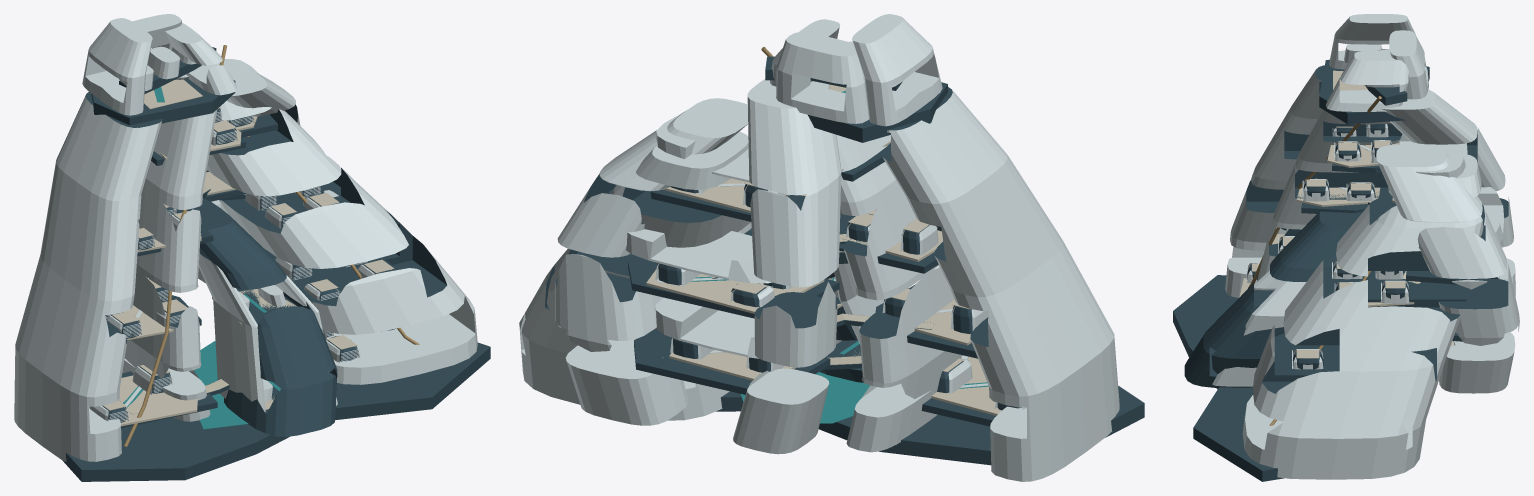
The model's file is R17_REVISION_2.glb.
3 views of the same model, side by side, from view 1: azimuth 30°, elevation 25°; view 2: azimuth 150°, elevation 25°; view 3: azimuth 270°, elevation 25° (orthographic). The views are drawn at different scales.
Visible parts, largest first — view 1: R1_WEST_OCEAN_RIDGE, R2_EAST_INLAND_CIVILIZATION, R1_WEST_INNER_RIDGE, R2_INNER_METROPOLITAN_PENINSULA, C_LOWEST_URBAN_DELTA, R2_PENINSULA_INHABITED_CHEEK, R2_ZENITH_WEST_LIVED_CITY, R2_ZENITH_EAST_LIVED_CITY, R1_REAR_EAST_RIDGE, R2_ZENITH_METROPOLITAN_GROUND, C_W0_ESTUARY_public_ground, C_SHARED_INNER_SEA (+6 smaller); view 2: R1_WEST_OCEAN_RIDGE, R1_REAR_WEST_RIDGE, R1_REAR_EAST_RIDGE, R1_WEST_INNER_RIDGE, R2_EAST_INLAND_CIVILIZATION, R2_ZENITH_WEST_LIVED_CITY, R2_ZENITH_REAR_CIVILIZATION, C_LOWEST_URBAN_DELTA, R1_REAR_CIVIC_OVERWORLD.001, R1_REAR_CIVIC_OVERWORLD, R1_REAR_LOWER_thick_inhabited_ground, R2_ZENITH_METROPOLITAN_GROUND (+15 smaller); view 3: R2_EAST_INLAND_CIVILIZATION, R1_REAR_EAST_RIDGE, R2_INNER_METROPOLITAN_PENINSULA, R1_WEST_OCEAN_RIDGE, C_LOWEST_URBAN_DELTA, R1_WEST_INNER_RIDGE, R1_REAR_WEST_RIDGE, R2_ZENITH_EAST_LIVED_CITY, R2_ZENITH_WEST_LIVED_CITY, R2_PENINSULA_INHABITED_CHEEK.001, R2_ZENITH_REAR_CIVILIZATION, R2_ZENITH_METROPOLITAN_GROUND (+8 smaller).
Part boxes in pixels (box(x1,y1,x2,y2)): R1_WEST_OCEAN_RIDGE: box(14, 92, 162, 461); R2_EAST_INLAND_CIVILIZATION: box(207, 100, 477, 384); R1_WEST_INNER_RIDGE: box(122, 109, 217, 421); R2_INNER_METROPOLITAN_PENINSULA: box(181, 198, 337, 436); C_LOWEST_URBAN_DELTA: box(62, 342, 490, 481); R2_PENINSULA_INHABITED_CHEEK: box(198, 253, 265, 411); R2_ZENITH_WEST_LIVED_CITY: box(82, 18, 152, 115); R2_ZENITH_EAST_LIVED_CITY: box(165, 23, 237, 95); R1_REAR_EAST_RIDGE: box(198, 62, 300, 283); R2_ZENITH_METROPOLITAN_GROUND: box(91, 79, 235, 125); C_W0_ESTUARY_public_ground: box(119, 375, 197, 426); C_SHARED_INNER_SEA: box(194, 341, 248, 429); R1_WEST_OCEAN_RIDGE: box(882, 87, 1119, 481); R1_REAR_WEST_RIDGE: box(733, 79, 841, 454); R1_REAR_EAST_RIDGE: box(555, 98, 748, 425); R1_WEST_INNER_RIDGE: box(836, 135, 968, 452); R2_EAST_INLAND_CIVILIZATION: box(519, 131, 751, 420); R2_ZENITH_WEST_LIVED_CITY: box(852, 14, 942, 126); R2_ZENITH_REAR_CIVILIZATION: box(776, 32, 869, 123); C_LOWEST_URBAN_DELTA: box(716, 386, 1144, 465); R1_REAR_CIVIC_OVERWORLD.001: box(626, 229, 771, 283); R1_REAR_CIVIC_OVERWORLD: box(655, 297, 758, 358); R1_REAR_LOWER_thick_inhabited_ground: box(634, 329, 830, 394); R2_ZENITH_METROPOLITAN_GROUND: box(808, 82, 947, 142); R2_EAST_INLAND_CIVILIZATION: box(1242, 153, 1484, 479); R1_REAR_EAST_RIDGE: box(1376, 144, 1519, 393); R2_INNER_METROPOLITAN_PENINSULA: box(1184, 211, 1362, 387); R1_WEST_OCEAN_RIDGE: box(1225, 65, 1324, 297); C_LOWEST_URBAN_DELTA: box(1173, 275, 1283, 481); R1_WEST_INNER_RIDGE: box(1257, 110, 1402, 281); R1_REAR_WEST_RIDGE: box(1380, 89, 1515, 296); R2_ZENITH_EAST_LIVED_CITY: box(1326, 50, 1409, 111); R2_ZENITH_WEST_LIVED_CITY: box(1329, 14, 1415, 69); R2_PENINSULA_INHABITED_CHEEK.001: box(1212, 281, 1306, 386); R2_ZENITH_REAR_CIVILIZATION: box(1389, 30, 1428, 99); R2_ZENITH_METROPOLITAN_GROUND: box(1319, 59, 1429, 124).
Size of the model in its own units: 5710 by 4470 by 4270.
